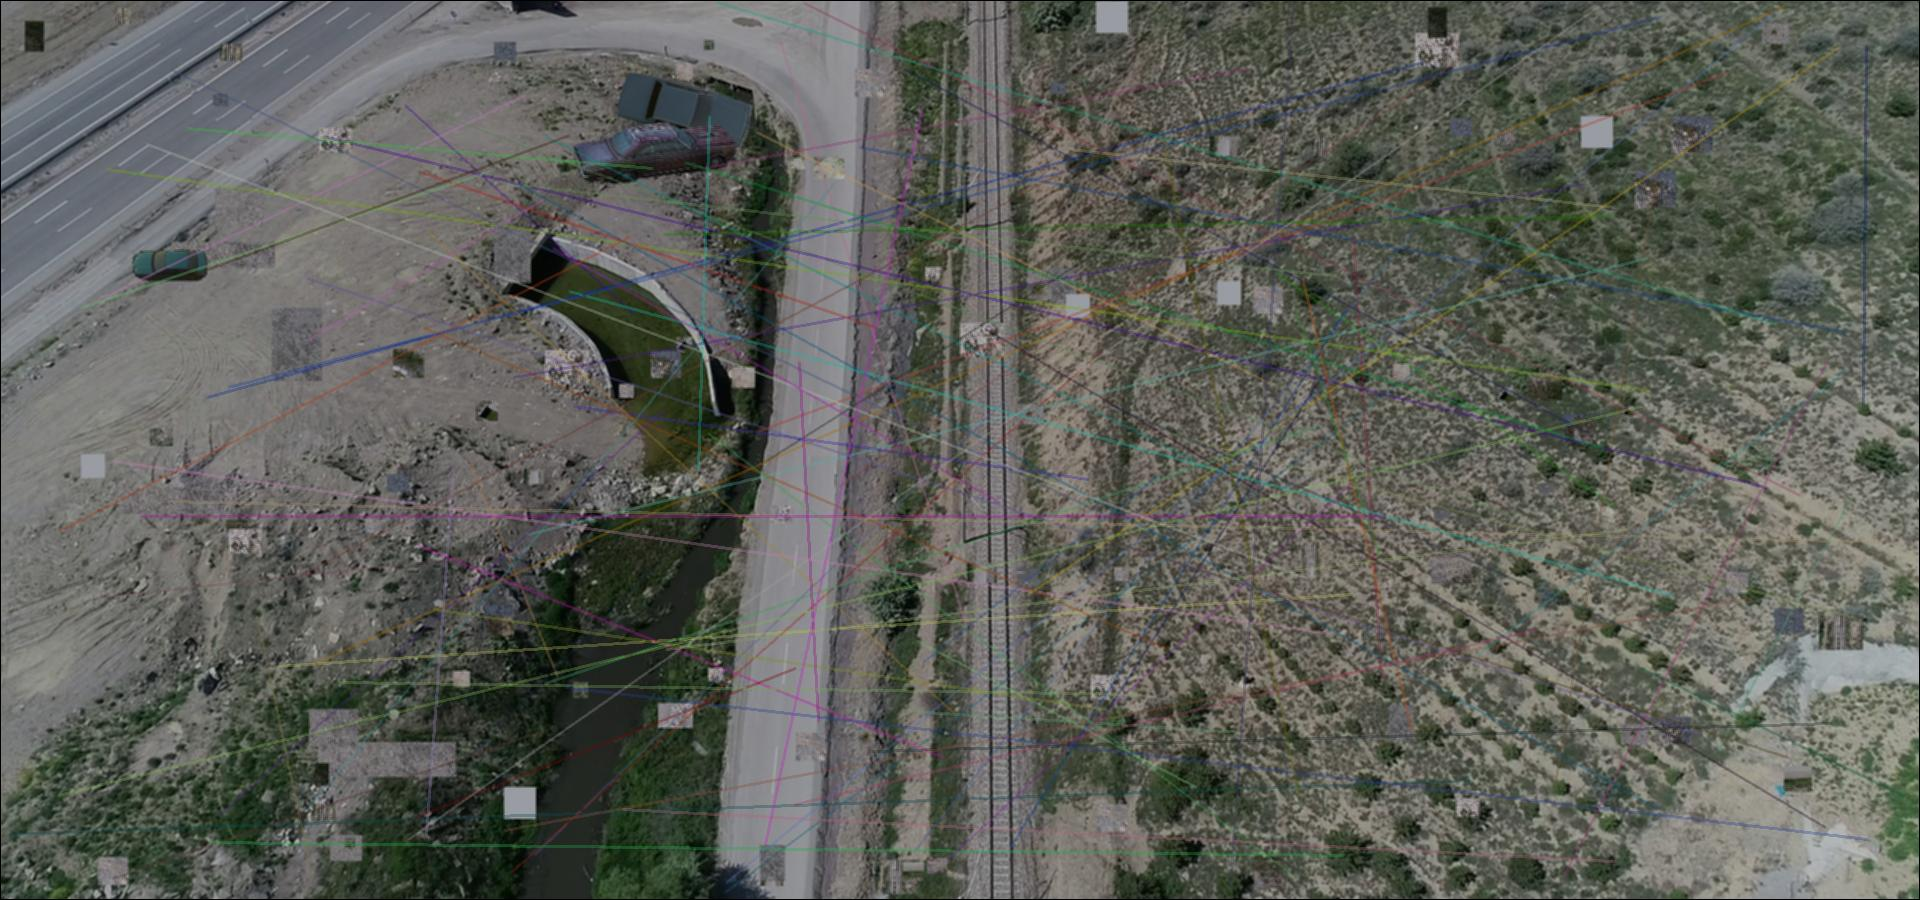arac: (571, 119, 738, 186), (618, 71, 753, 148), (132, 249, 211, 280)
